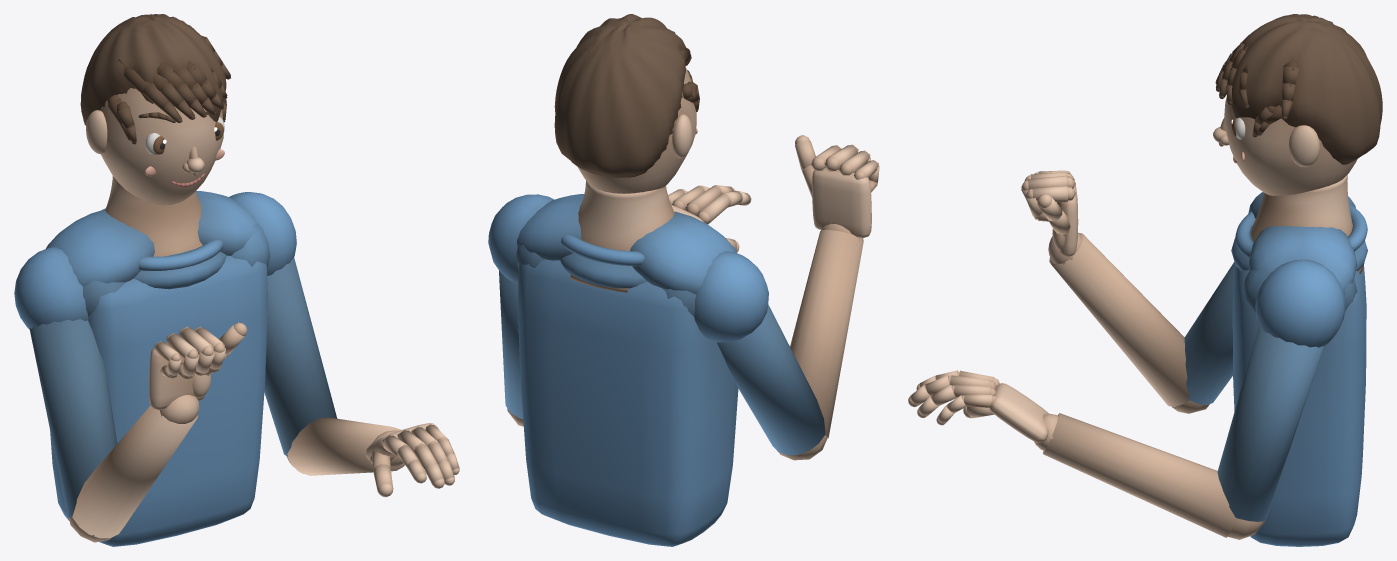
3 renders of one model, left to right at view 1: azimuth 30°, elevation 25°; view 2: azimuth 150°, elevation 25°; view 3: azimuth 270°, elevation 25°, orthographic.
Parts seen in each view (by area): view 1: LSC_Body; view 2: LSC_Body; view 3: LSC_Body.
Part boxes in pixels (left/top/right/bottom): LSC_Body: left=14, top=14, right=459, bottom=546; LSC_Body: left=488, top=14, right=879, bottom=546; LSC_Body: left=908, top=14, right=1382, bottom=546.
Bounding box in the file's own units: 0.4304 × 0.713 × 0.6104.
